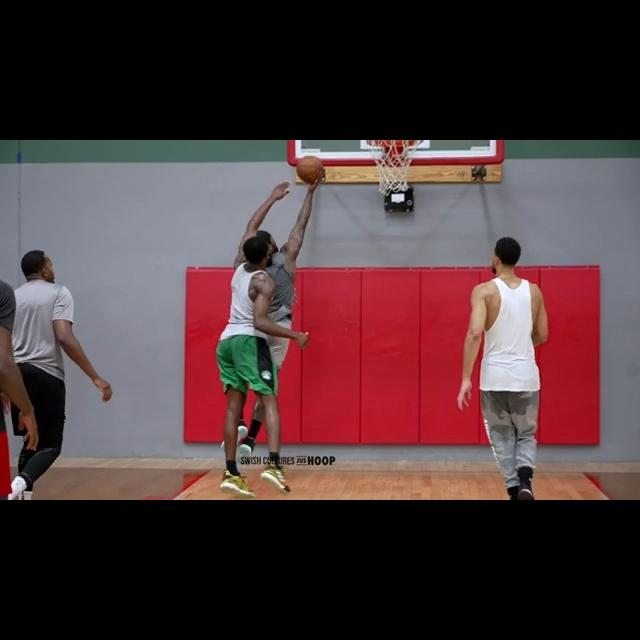basketball: (295, 154, 327, 183)
hoop: (370, 140, 425, 195)
person: (3, 249, 116, 500), (219, 181, 313, 465), (455, 237, 552, 500), (215, 239, 311, 499), (0, 254, 40, 500)
